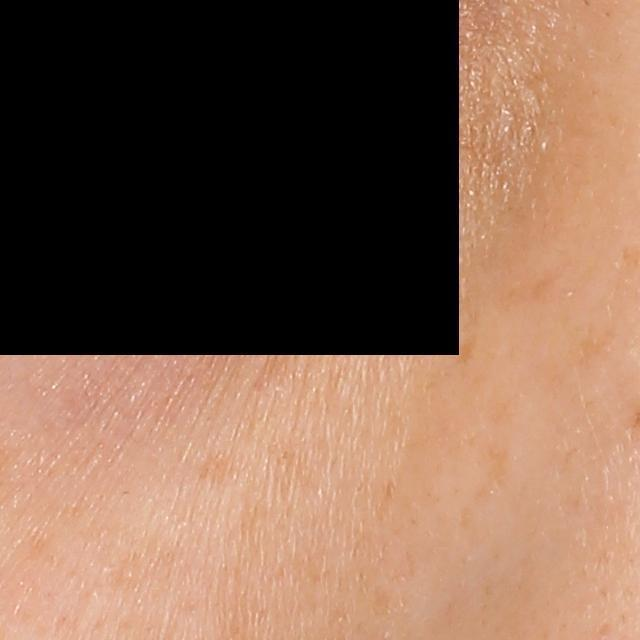melasma: (190, 446, 250, 497), (451, 330, 481, 370)
